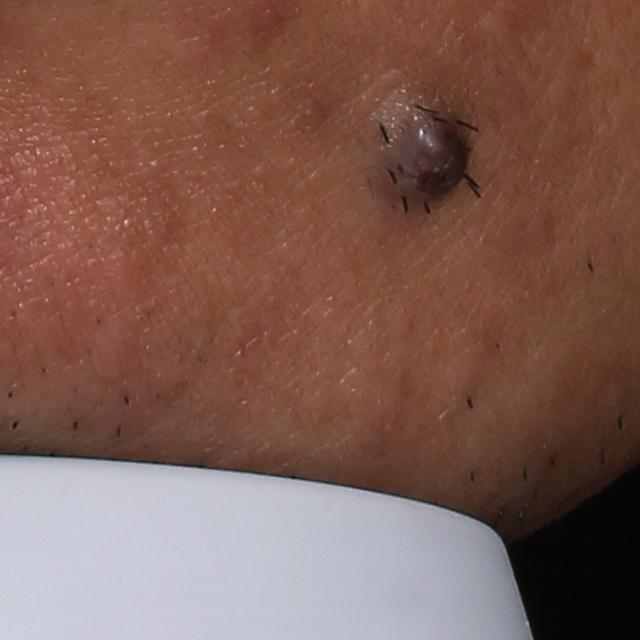nevus: (357, 80, 476, 232)
